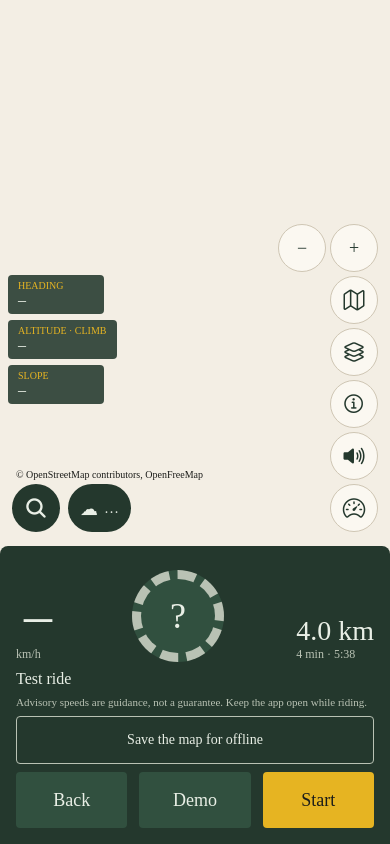
Test: an assumed limit is marked as assumed
The width and height of the screenshot is (390, 844).
Click the button "Start" at point(318, 800), box [263, 772, 374, 828]
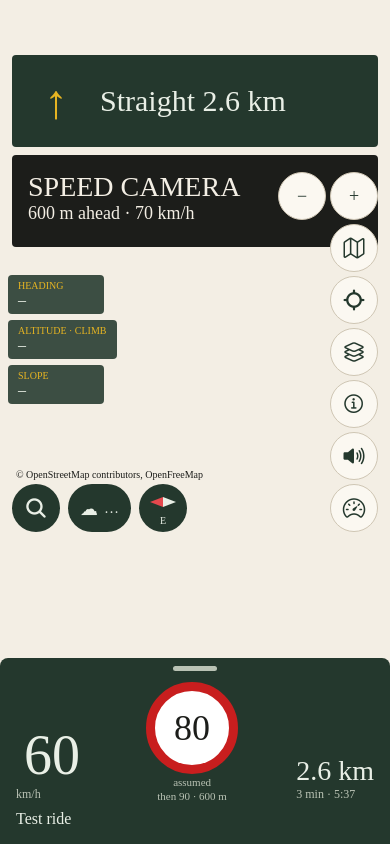
Check: the element named "Speed limit 80, assumed" is shown, box [146, 682, 238, 774]
Check: the text "assumed" is shown, box [173, 776, 211, 788]
